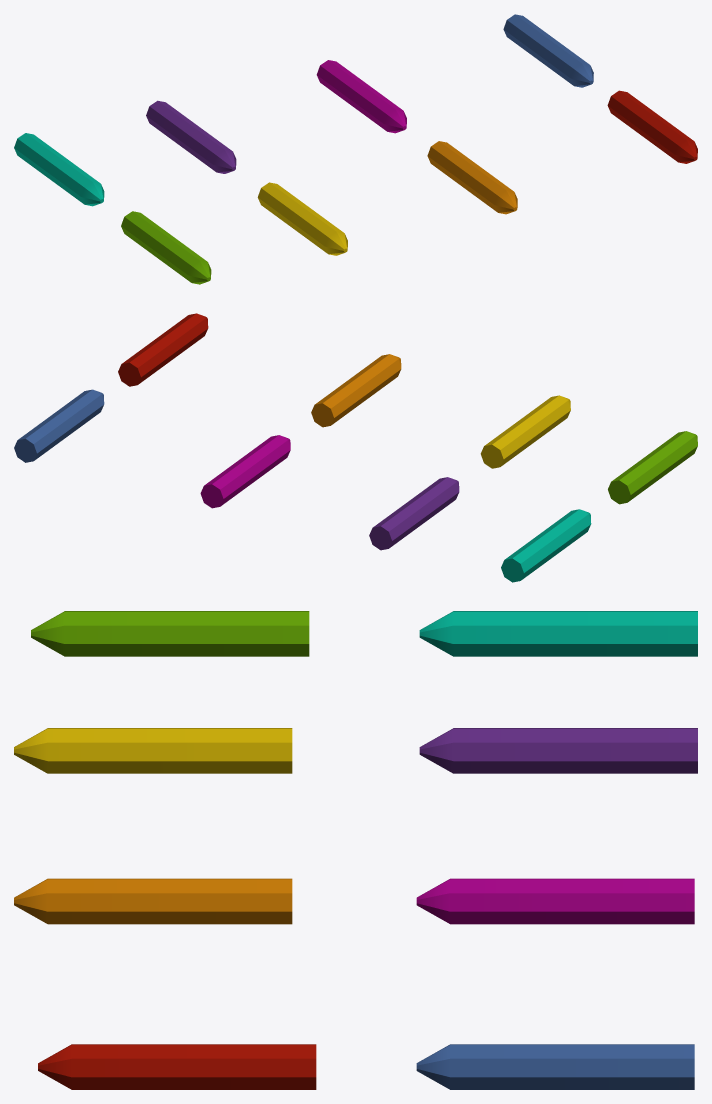
Rendered from Crayons.fbx.
3 renders of one model, top to bottom at view 1: azimuth 30°, elevation 25°; view 2: azimuth 150°, elevation 25°; view 3: azimuth 270°, elevation 25°, orthographic. The views are drawn at different scales.
Parts seen in each view (by area): view 1: BlueCrayon, OrangeCrayon, PurpleCrayon, PinkCrayon, GreenCrayon, RedCrayon, YellowCrayon, TealCrayon; view 2: OrangeCrayon, PurpleCrayon, YellowCrayon, TealCrayon, PinkCrayon, RedCrayon, BlueCrayon, GreenCrayon; view 3: OrangeCrayon, PinkCrayon, YellowCrayon, RedCrayon, GreenCrayon, BlueCrayon, PurpleCrayon, TealCrayon.
Part boxes in pixels (x1,y1,x2,y2): BlueCrayon: [503, 14, 593, 87]; OrangeCrayon: [427, 141, 517, 214]; PurpleCrayon: [146, 100, 236, 173]; PinkCrayon: [316, 60, 406, 133]; GreenCrayon: [121, 211, 211, 284]; RedCrayon: [607, 90, 697, 163]; YellowCrayon: [257, 182, 347, 255]; TealCrayon: [14, 133, 104, 206]; OrangeCrayon: [311, 354, 401, 427]; PurpleCrayon: [369, 477, 459, 550]; YellowCrayon: [480, 395, 570, 468]; TealCrayon: [501, 509, 591, 582]; PinkCrayon: [200, 435, 290, 508]; RedCrayon: [118, 313, 208, 386]; BlueCrayon: [14, 389, 104, 462]; GreenCrayon: [608, 431, 697, 504]; OrangeCrayon: [14, 878, 292, 924]; PinkCrayon: [416, 878, 694, 924]; YellowCrayon: [14, 728, 292, 773]; RedCrayon: [38, 1044, 316, 1089]; GreenCrayon: [31, 611, 309, 656]; BlueCrayon: [416, 1044, 694, 1089]; PurpleCrayon: [419, 728, 697, 773]; TealCrayon: [419, 611, 697, 656].
Size of the model in its own units: 0.7948 by 0.0359 by 0.5064.
